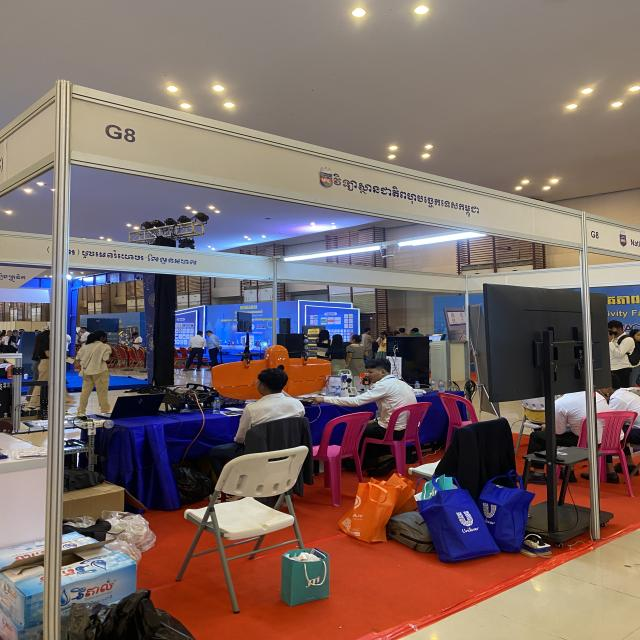838: (118, 126, 141, 147), (593, 230, 600, 239)
Yolov11_80vkh: (331, 172, 483, 221), (68, 577, 116, 602), (602, 292, 639, 308), (2, 272, 30, 285), (237, 304, 259, 311)
